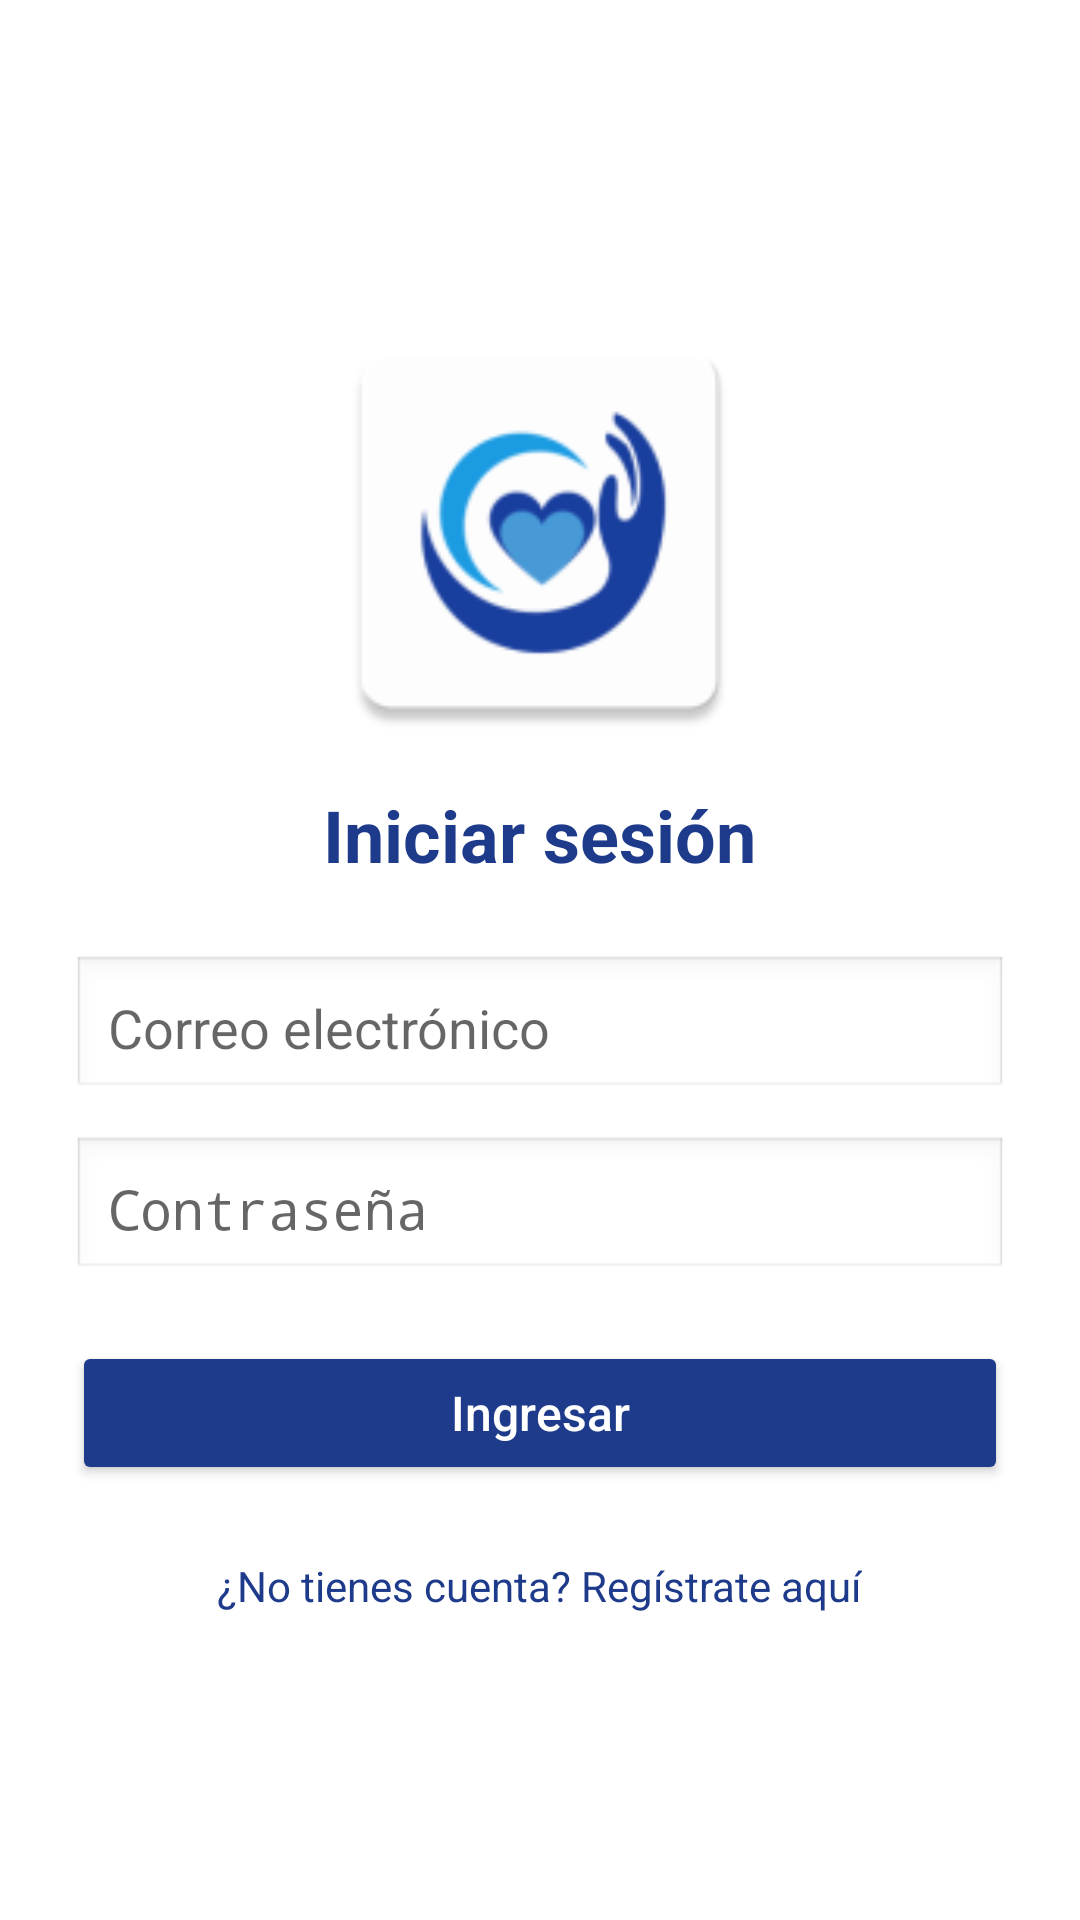

Locate icon controls on the screen. Image size 1080×1920, boxes as (x1, y1, x2, y2).
cuida: (362, 371, 721, 720)
